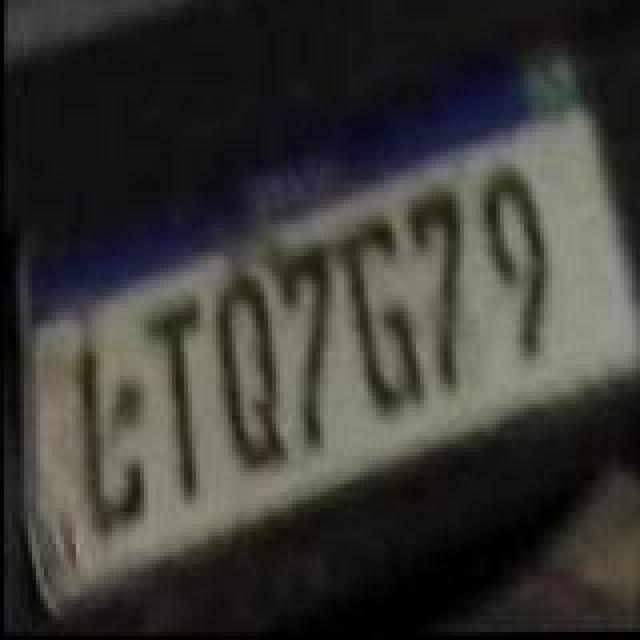7: (402, 188, 466, 396), (276, 246, 336, 450)
9: (478, 174, 550, 358)
G: (342, 218, 430, 418)
L: (74, 350, 150, 534)
Q: (210, 282, 294, 478)
T: (138, 302, 206, 506)
